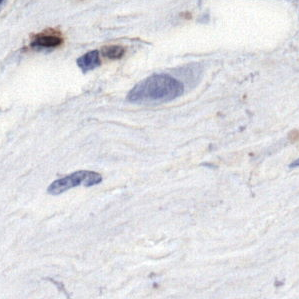Lymphocyte: (28, 26, 62, 50)
